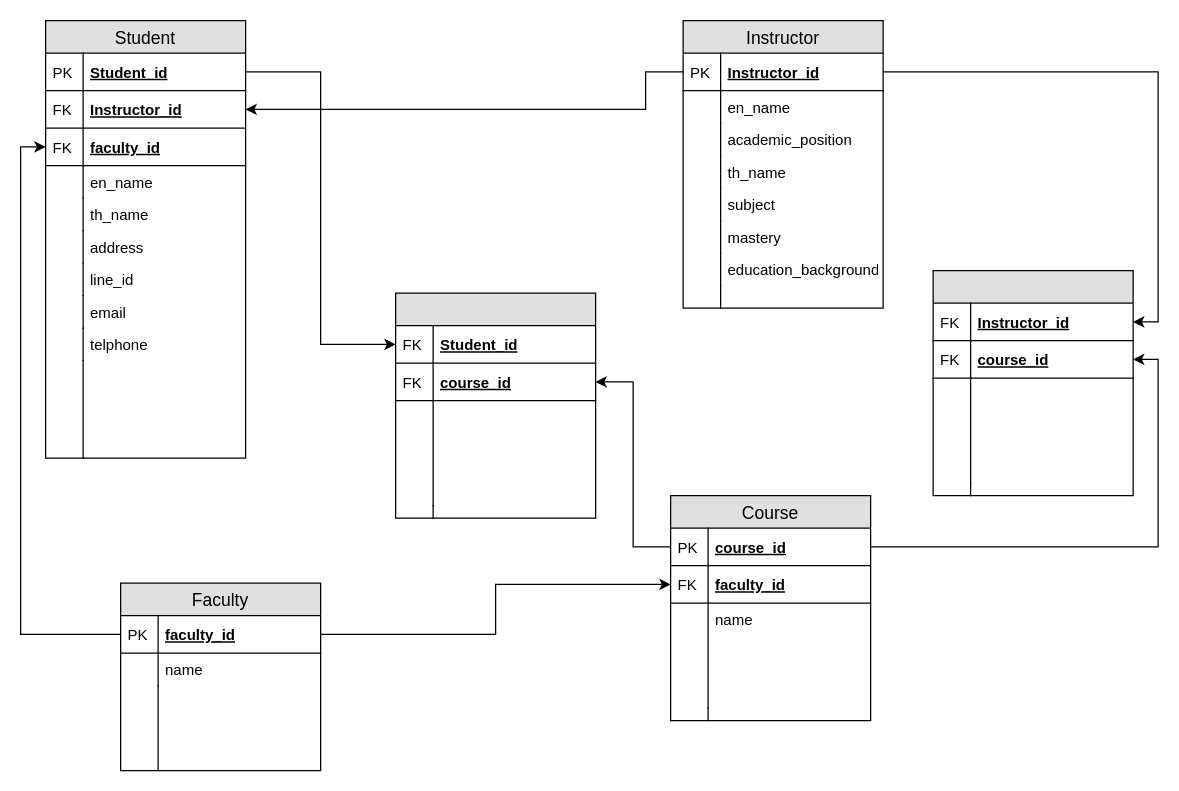
Image size: 1179x791. Some labels were removed from this diagram. Here are the shapes that lost their labels. From the top down, the box of each, then its label:
(932, 269, 1133, 496): Teach
(394, 292, 596, 518): Study
